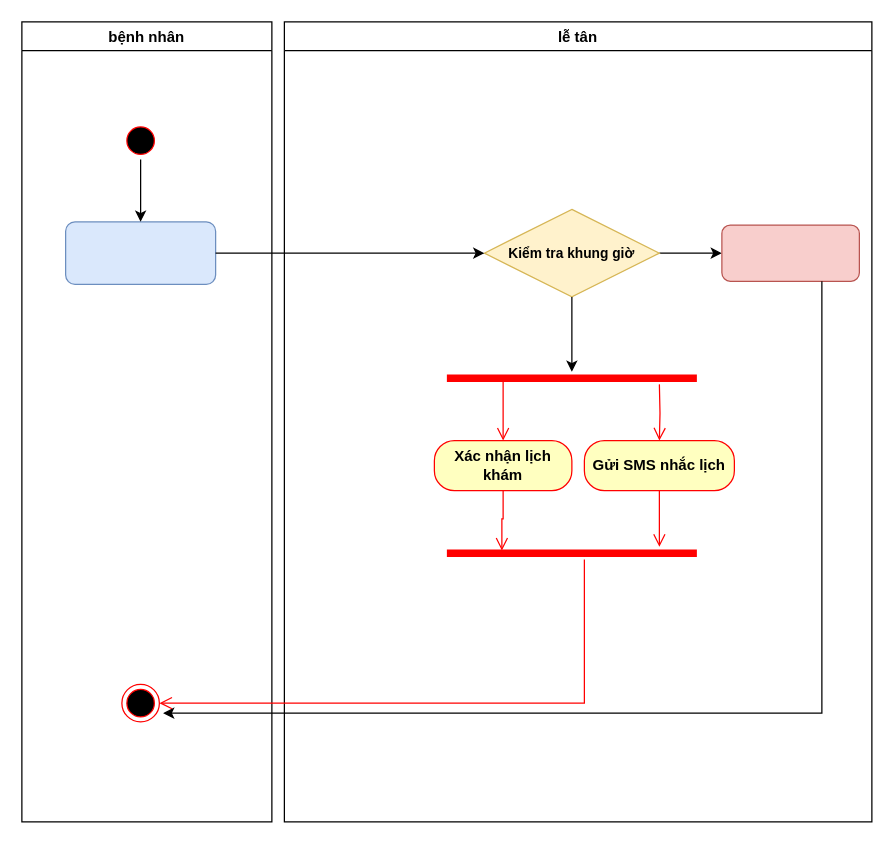
Image size: 894x844. Some labels were removed from this diagram. Each missing label, with the centre of its shape:
"Báo chọn khung giờ khác" belongs at pixel 790 252.
"Đặt lịch khám" belongs at pixel 140 252.
